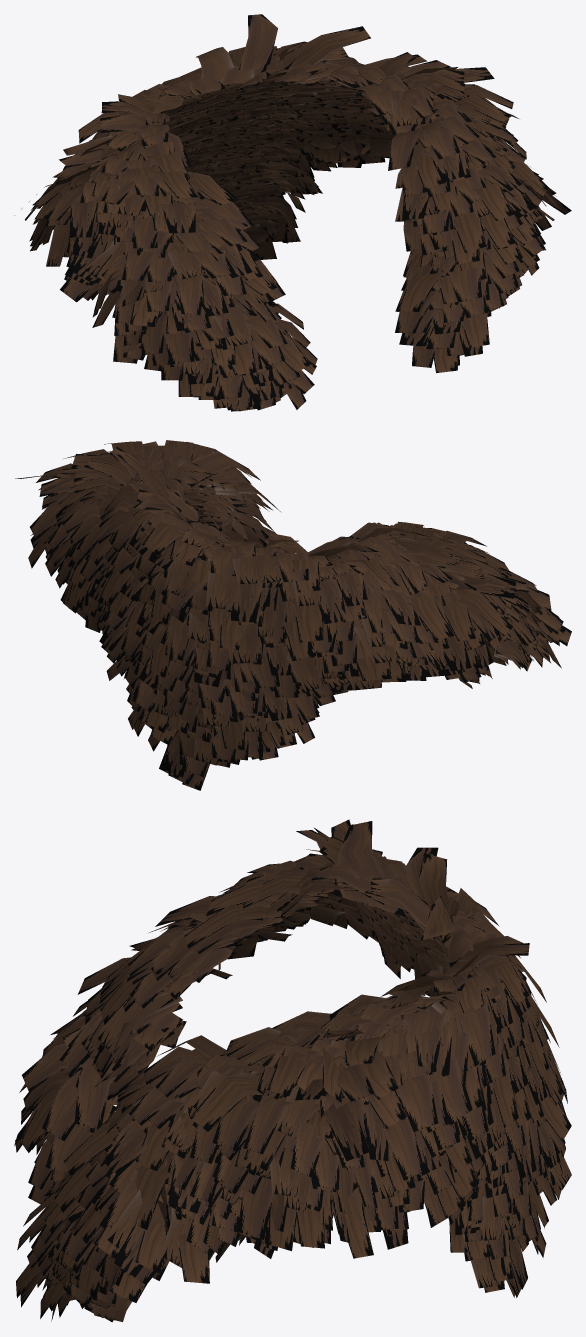
The model's file is Robe_part_1.fbx.
The picture shows the model from 3 angles, top to bottom: view 1: azimuth 30°, elevation 25°; view 2: azimuth 150°, elevation 25°; view 3: azimuth 270°, elevation 25°; orthographic projection. The views are drawn at different scales.
Parts seen in each view (by area): view 1: Fur_Fur_0.001; view 2: Fur_Fur_0.001; view 3: Fur_Fur_0.001.
Boxes of the visible parts, bbox=[...] form: Fur_Fur_0.001: bbox=[14, 14, 571, 411]; Fur_Fur_0.001: bbox=[15, 440, 571, 790]; Fur_Fur_0.001: bbox=[14, 819, 571, 1322].
Bounding box in the file's own units: 62008 × 32452 × 42942.
